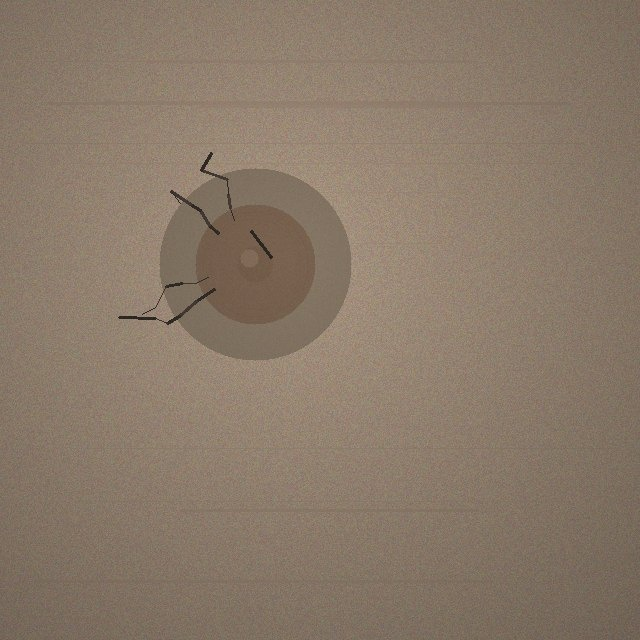crack: (159, 168, 351, 360)
